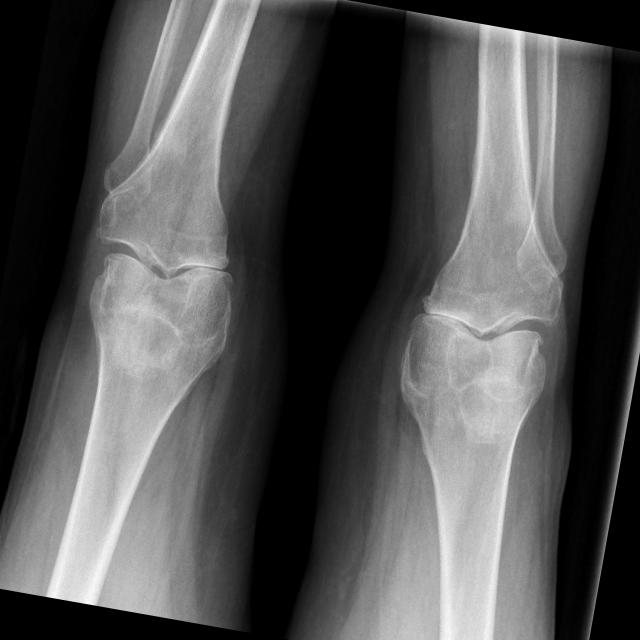Knee: (80, 180, 254, 364), (394, 242, 570, 419)
